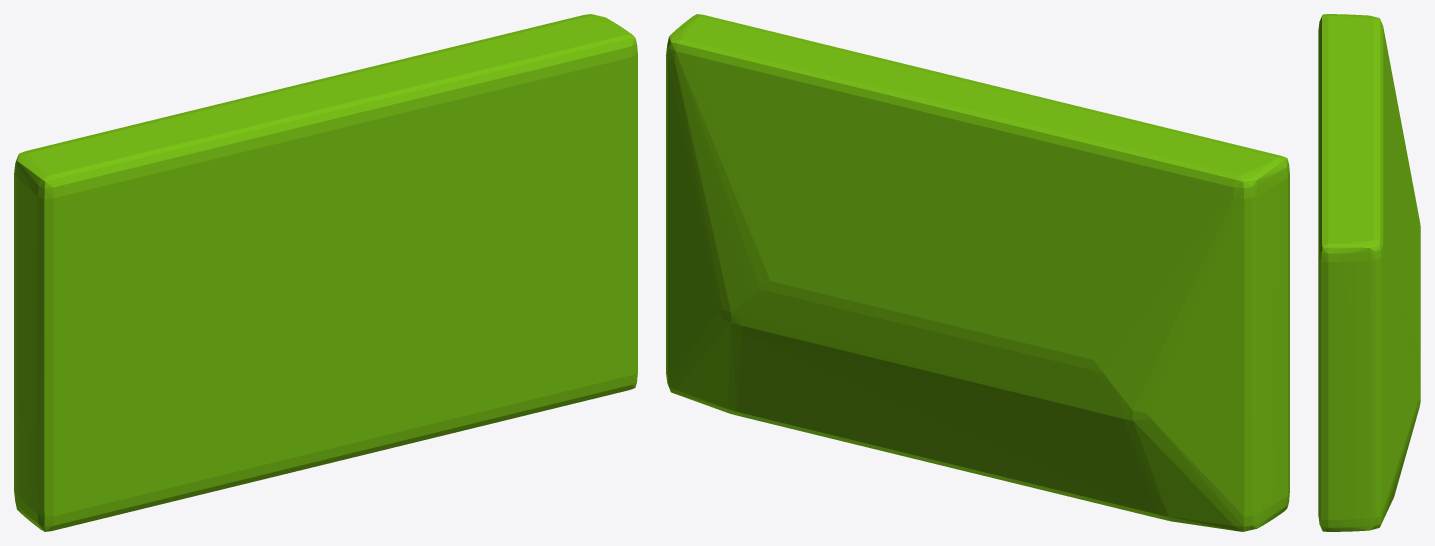
File: pelvis_part_4.obj
3 renders of one model, left to right at view 1: azimuth 30°, elevation 25°; view 2: azimuth 150°, elevation 25°; view 3: azimuth 270°, elevation 25°, orthographic. The views are drawn at different scales.
Bounding box in the file's own units: 0.1403 × 0.0792 × 0.0256.
